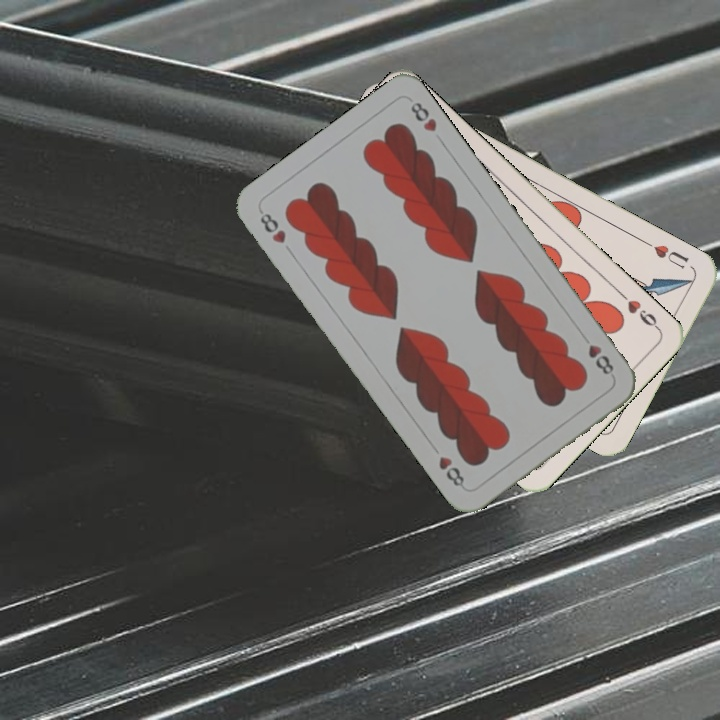H8: (576, 329, 617, 378), (255, 206, 289, 247)
H9: (615, 288, 662, 333)
HU: (640, 237, 692, 272)
